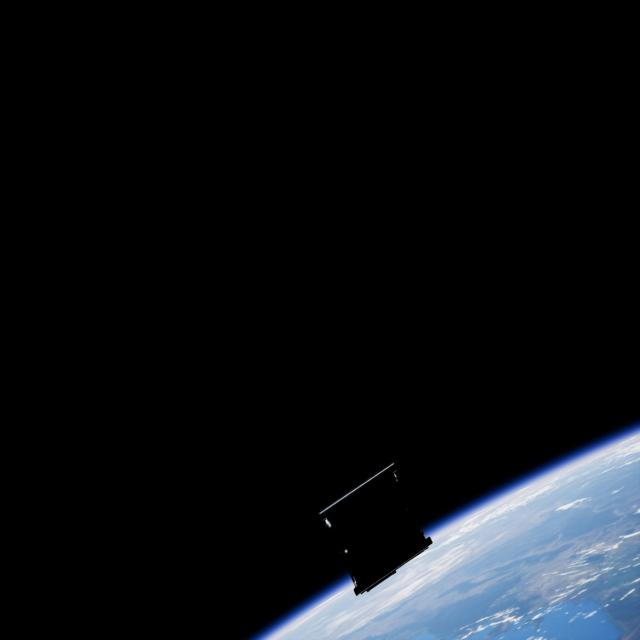medium_debris: (319, 456, 444, 602)
